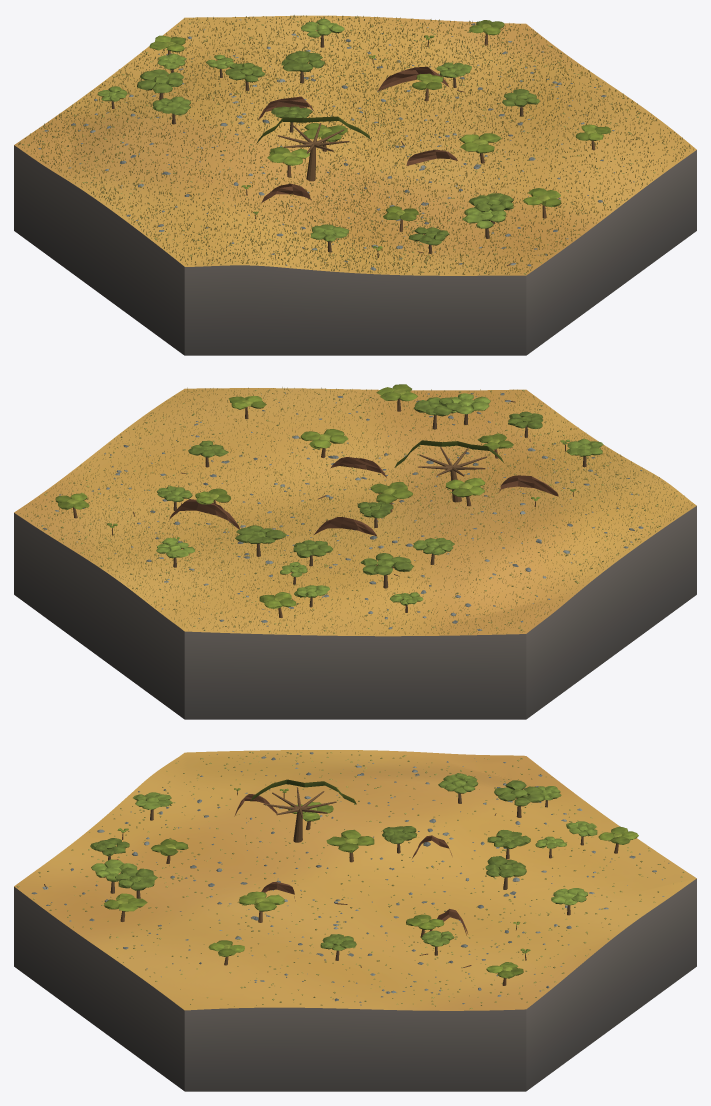
3 renders of one model, top to bottom at view 1: azimuth 30°, elevation 25°; view 2: azimuth 150°, elevation 25°; view 3: azimuth 270°, elevation 25°, orthographic.
Parts seen in each view (by area): view 1: terrain, hex_side_cut, wildflowers, broadleaf_canopy, shrubs, boulders, rock_escarpments, trunks, branches; view 2: terrain, hex_side_cut, wildflowers, broadleaf_canopy, shrubs, rock_escarpments, boulders, trunks, branches; view 3: terrain, hex_side_cut, broadleaf_canopy, shrubs, boulders, trunks, rock_escarpments, branches.
Part boxes in pixels (box(x1,y1,x2,y2)): terrain: box(14, 15, 696, 275); hex_side_cut: box(14, 145, 696, 355); wildflowers: box(18, 15, 693, 274); broadleaf_canopy: box(97, 18, 610, 250); shrubs: box(22, 17, 684, 274); boulders: box(38, 19, 643, 270); rock_escarpments: box(258, 66, 457, 203); trunks: box(111, 34, 595, 257); branches: box(277, 30, 514, 265); terrain: box(14, 388, 696, 636); hex_side_cut: box(14, 506, 696, 719); wildflowers: box(19, 387, 692, 634); broadleaf_canopy: box(55, 384, 603, 608); shrubs: box(27, 389, 681, 634); rock_escarpments: box(169, 457, 558, 536); boulders: box(41, 392, 674, 631); trunks: box(73, 399, 586, 617); branches: box(133, 400, 530, 600); terrain: box(14, 750, 696, 1010); hex_side_cut: box(14, 878, 696, 1091); broadleaf_canopy: box(90, 773, 638, 978); shrubs: box(16, 751, 684, 1009); boulders: box(31, 752, 669, 1005); trunks: box(108, 791, 618, 985); rock_escarpments: box(234, 794, 468, 935); branches: box(44, 787, 524, 967).
Bounding box in the file's own units: 4330 × 1081 × 5000.
